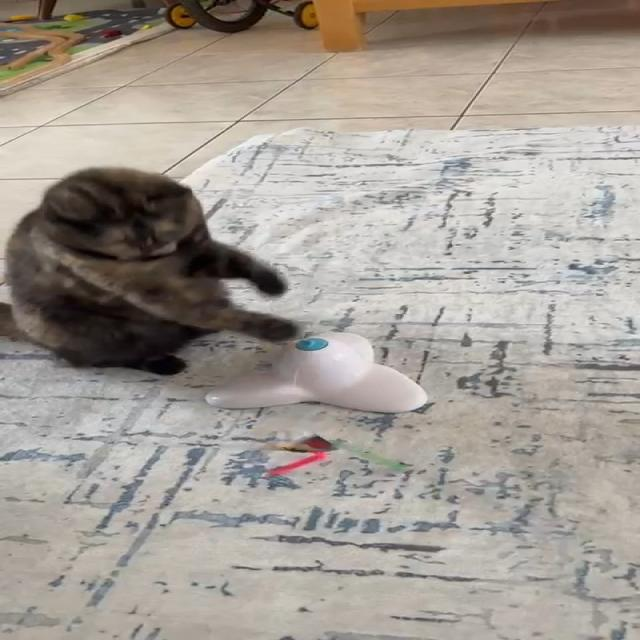authorized: (1, 165, 300, 376)
